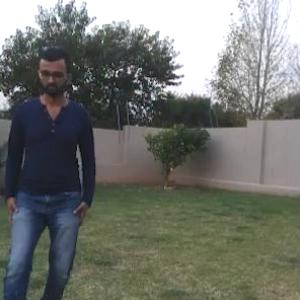follow: (0, 9, 106, 299)
